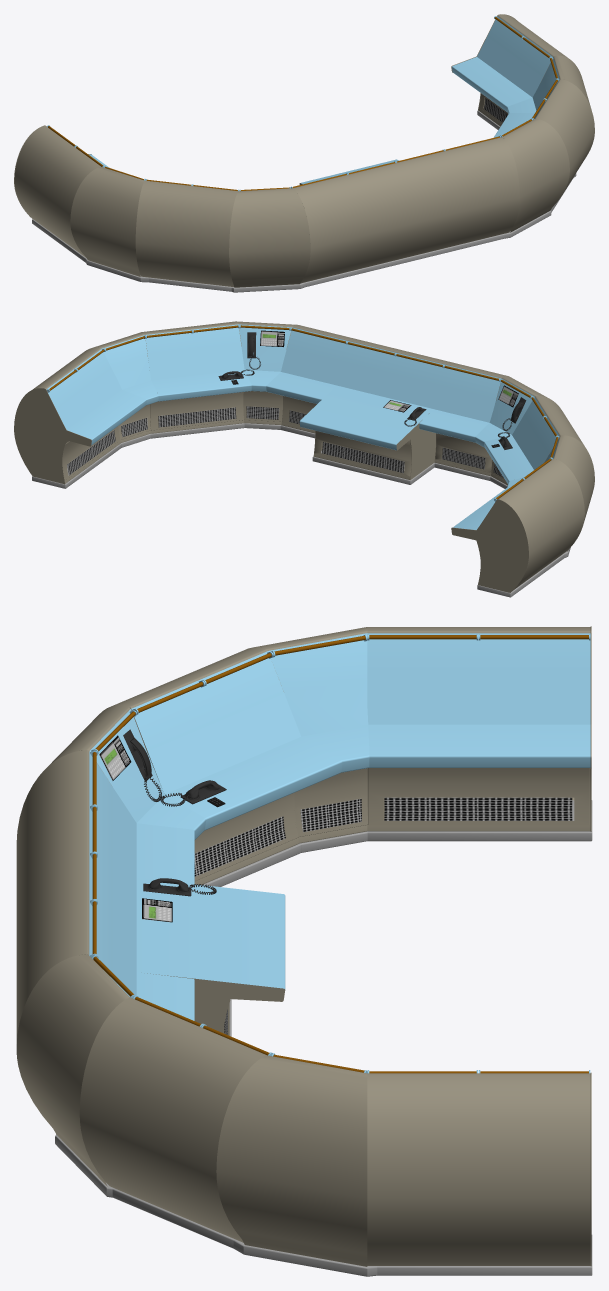
File: bridge.glb
The picture shows the model from 3 angles, top to bottom: view 1: azimuth 30°, elevation 25°; view 2: azimuth 150°, elevation 25°; view 3: azimuth 270°, elevation 25°; orthographic projection. The views are drawn at different scales.
Visible parts, largest first — view 1: Gehäuse.003, Gehäuse.002, Gehäuse.005, Gehäuse, Gehäuse.004, Gehäuse.006, Gehäuse.001, Holzfuß.002, Holzfuß, Holzfuß.003, Holzfuß.005, Holzfuß.004; view 2: Gehäuse.005, Gehäuse, Gehäuse.003, Gehäuse.001, Gehäuse.006, Gehäuse.002, Gehäuse.004, Gehäuse.013, Holzfuß.005, Gehäuse.011, Holzfuß, Gehäuse.009 (+4 smaller); view 3: Gehäuse.005, Gehäuse.003, Gehäuse.004, Gehäuse, Gehäuse.002, Gehäuse.001, Gehäuse.006, Holzfuß.005, Gehäuse.009, Holzfuß.003, Holzfuß.004, Gehäuse.011 (+3 smaller).
Boxes of the visible parts, bbox=[...] form: Gehäuse.003: bbox=[135, 79, 594, 286]; Gehäuse.002: bbox=[229, 118, 569, 287]; Gehäuse.005: bbox=[14, 14, 567, 257]; Gehäuse: bbox=[299, 151, 463, 269]; Gehäuse.004: bbox=[70, 55, 590, 276]; Gehäuse.006: bbox=[446, 137, 519, 246]; Gehäuse.001: bbox=[293, 174, 366, 283]; Holzfuß.002: bbox=[231, 210, 551, 292]; Holzfuß: bbox=[356, 246, 453, 274]; Holzfuß.003: bbox=[149, 178, 572, 291]; Holzfuß.005: bbox=[32, 110, 500, 262]; Holzfuß.004: bbox=[85, 173, 576, 282]; Gehäuse.005: bbox=[14, 347, 584, 592]; Gehäuse: bbox=[299, 338, 450, 480]; Gehäuse.003: bbox=[143, 321, 585, 484]; Gehäuse.001: bbox=[419, 362, 506, 476]; Gehäuse.006: bbox=[266, 325, 353, 433]; Gehäuse.002: bbox=[236, 321, 549, 485]; Gehäuse.004: bbox=[93, 332, 594, 551]; Gehäuse.013: bbox=[322, 442, 404, 473]; Holzfuß.005: bbox=[32, 443, 566, 597]; Gehäuse.011: bbox=[158, 407, 236, 427]; Holzfuß: bbox=[312, 450, 434, 484]; Gehäuse.009: bbox=[67, 430, 115, 475]; Gehäuse.005: bbox=[367, 626, 591, 1266]; Gehäuse.003: bbox=[79, 647, 342, 1242]; Gehäuse.004: bbox=[216, 627, 384, 1266]; Gehäuse: bbox=[16, 805, 285, 1035]; Gehäuse.002: bbox=[16, 705, 205, 1186]; Gehäuse.001: bbox=[16, 750, 194, 894]; Gehäuse.006: bbox=[16, 899, 194, 1043]; Holzfuß.005: bbox=[367, 800, 592, 1275]; Gehäuse.009: bbox=[384, 797, 572, 820]; Holzfuß.003: bbox=[112, 844, 301, 1248]; Holzfuß.004: bbox=[233, 831, 377, 1276]; Gehäuse.011: bbox=[194, 816, 285, 876].
Size of what is drawn, in the model's own units: 10.04 by 1.78 by 4.86.
Materials: 9 (4 with a texture image).
